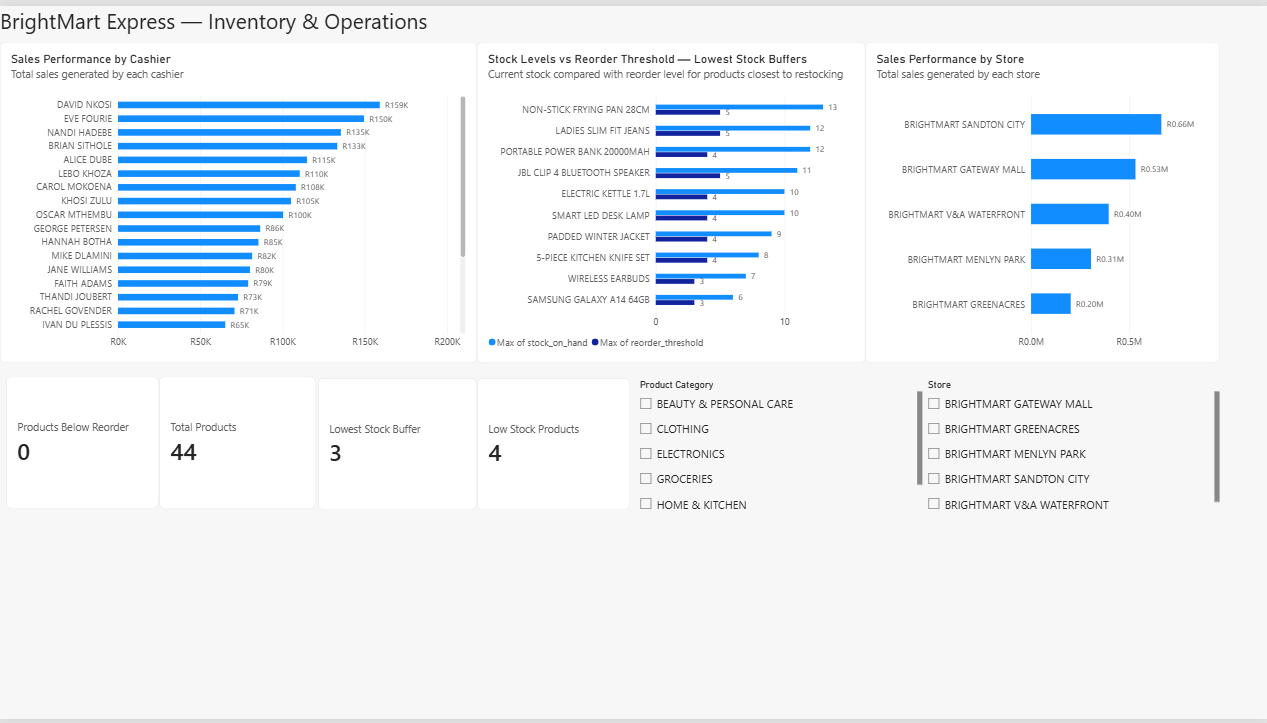

The page's visual inventory and layout, read from the dashboard file:
{"tool":"powerbi","page":{"name":"Inventory & Operations","canvas":[1920,1080],"ordinal":2},"visuals":[{"type":"clusteredBarChart","title":"Sales Performance by Cashier","fields":{"Category":["dwh_dim_employment.cashier_name"],"Y":["dwh_fact_sales.Total Sales"]},"box":[0,54.5,722.3,486.1],"z":0},{"type":"clusteredBarChart","title":"Stock Levels vs Reorder Threshold — Lowest Stock Buffers","fields":{"Category":["dwh_dim_product.product_name"],"Y":["Max(dwh_fact_sales.stock_on_hand)","Max(dwh_fact_sales.reorder_threshold)"]},"box":[722.3,54.5,588.3,486.1],"z":1},{"type":"cardVisual","fields":{"Data":["dwh_fact_sales.Products Below Reorder"]},"box":[8.9,560,231.1,200],"z":2},{"type":"cardVisual","fields":{"Data":["dwh_fact_sales.Total Products"]},"box":[240,560,237.8,200],"z":3},{"type":"cardVisual","fields":{"Data":["dwh_fact_sales.Lowest Stock Buffer"]},"box":[482.2,562.2,240,200],"z":4},{"type":"textbox","box":[0,0,767.7,54.5],"z":5},{"type":"slicer","fields":{"Values":["dwh_dim_product.category"]},"box":[960.8,565.6,436.1,197.6],"z":6},{"type":"cardVisual","fields":{"Data":["dwh_fact_sales.Low Stock Products"]},"box":[722.2,562.2,231,200],"z":7},{"type":"slicer","fields":{"Values":["dwh_dim_store.store_name"]},"box":[1396.9,565.6,449.7,197.6],"z":8},{"type":"clusteredBarChart","title":"Sales Performance by Store","fields":{"Category":["dwh_dim_store.store_name"],"Y":["dwh_fact_sales.Total Sales"]},"box":[1310.5,54.5,536,486.1],"z":9}]}

Visuals, with their boxes in screenshot pixels (x1, y1, x2, y2), scaled from the page's 1920x1080 canvas onto the 1267x723 screenshot:
"Sales Performance by Cashier" clusteredBarChart: pyautogui.locateOnScreen(0, 36, 477, 362)
"Stock Levels vs Reorder Threshold — Lowest Stock Buffers" clusteredBarChart: pyautogui.locateOnScreen(477, 36, 865, 362)
cardVisual - dwh_fact_sales.Products Below Reorder: pyautogui.locateOnScreen(6, 375, 158, 509)
cardVisual - dwh_fact_sales.Total Products: pyautogui.locateOnScreen(158, 375, 315, 509)
cardVisual - dwh_fact_sales.Lowest Stock Buffer: pyautogui.locateOnScreen(318, 376, 477, 510)
textbox: pyautogui.locateOnScreen(0, 0, 507, 36)
slicer - dwh_dim_product.category: pyautogui.locateOnScreen(634, 379, 922, 511)
cardVisual - dwh_fact_sales.Low Stock Products: pyautogui.locateOnScreen(477, 376, 629, 510)
slicer - dwh_dim_store.store_name: pyautogui.locateOnScreen(922, 379, 1219, 511)
"Sales Performance by Store" clusteredBarChart: pyautogui.locateOnScreen(865, 36, 1218, 362)
